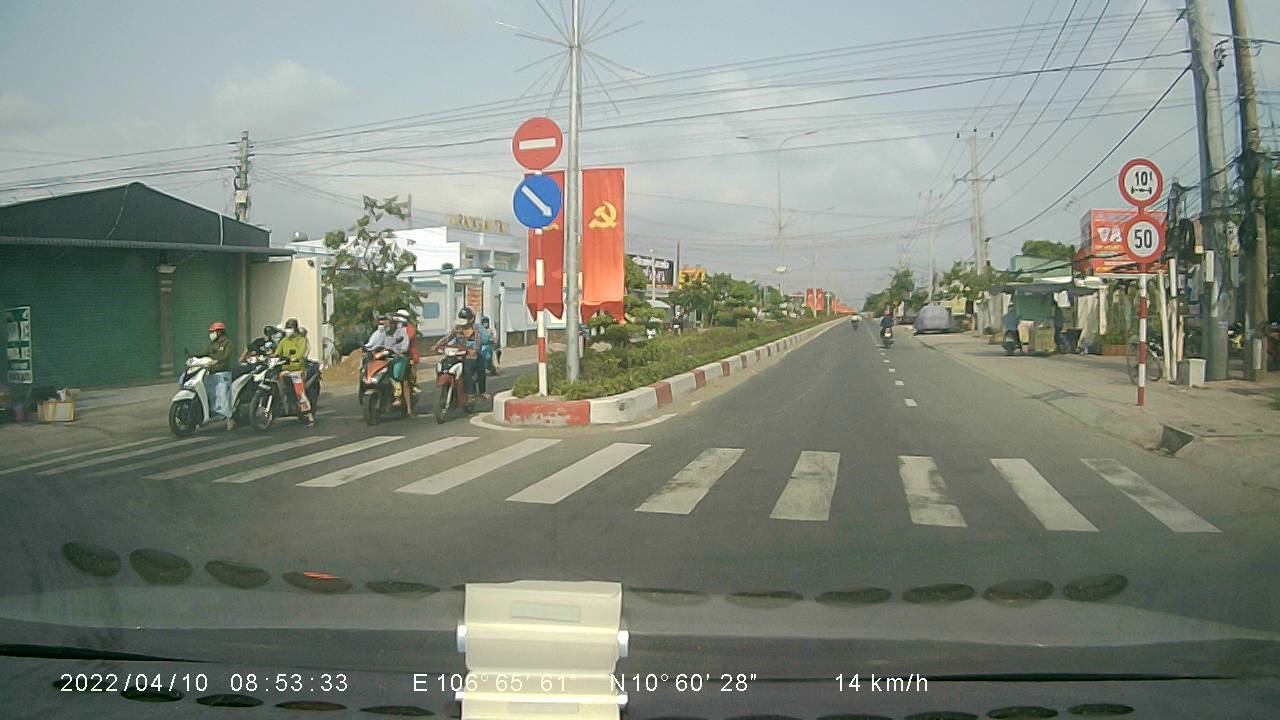Bien khac: (1120, 211, 1168, 267), (1116, 155, 1168, 206)
Cam di nguoc chieu: (510, 114, 568, 173)
Huong di phai re phai: (507, 174, 562, 230)
